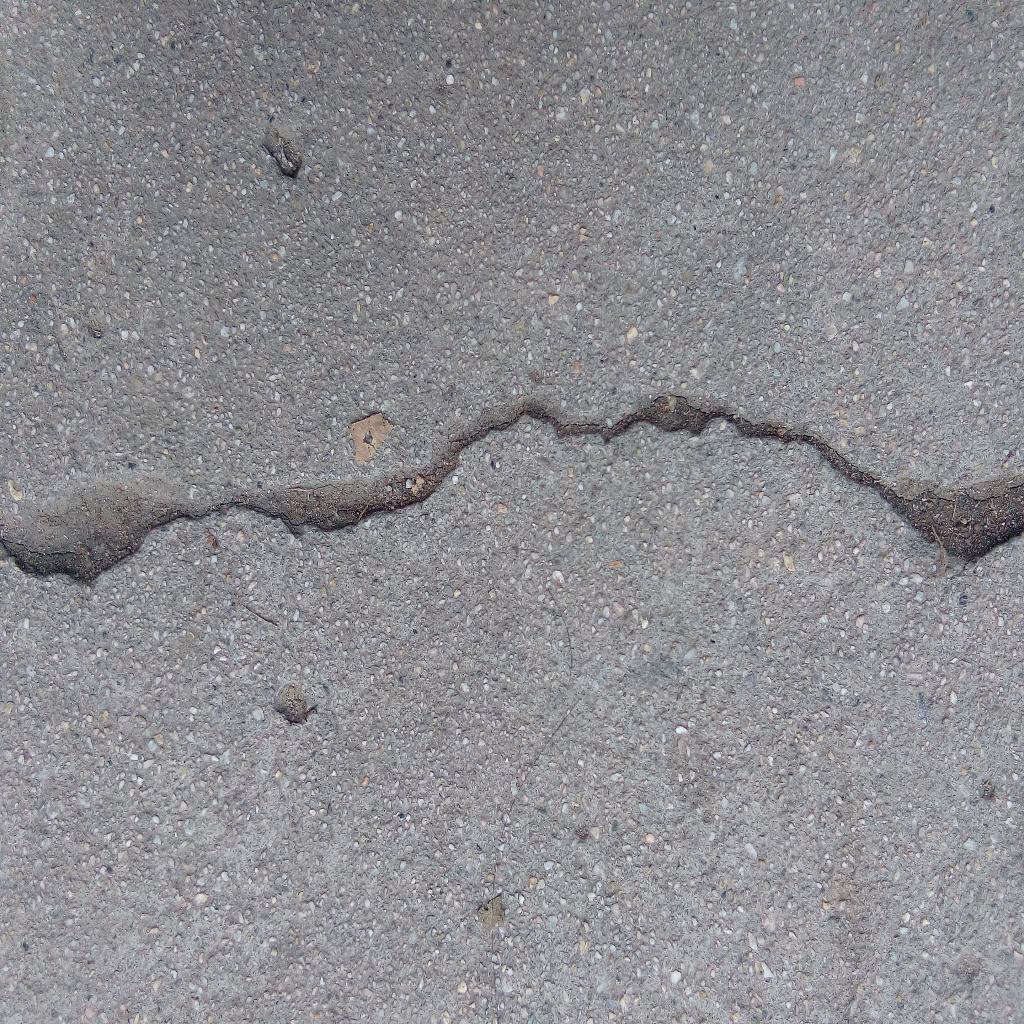Crack: (1, 394, 1024, 589)
